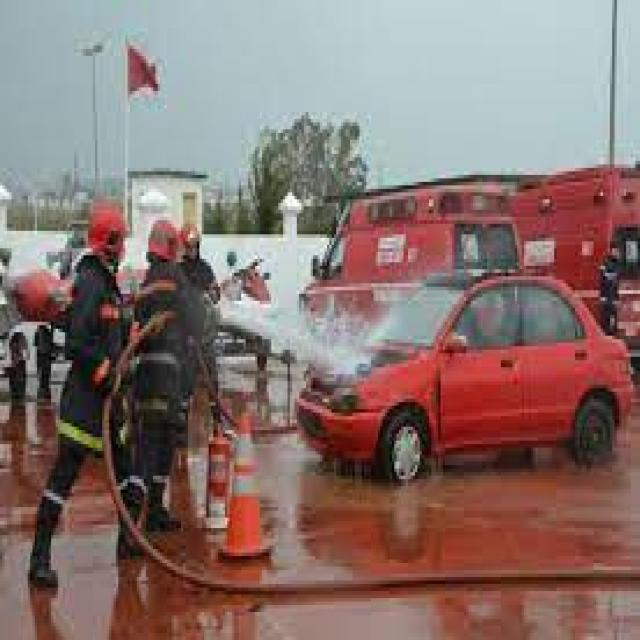ambulance: (298, 176, 518, 333)
